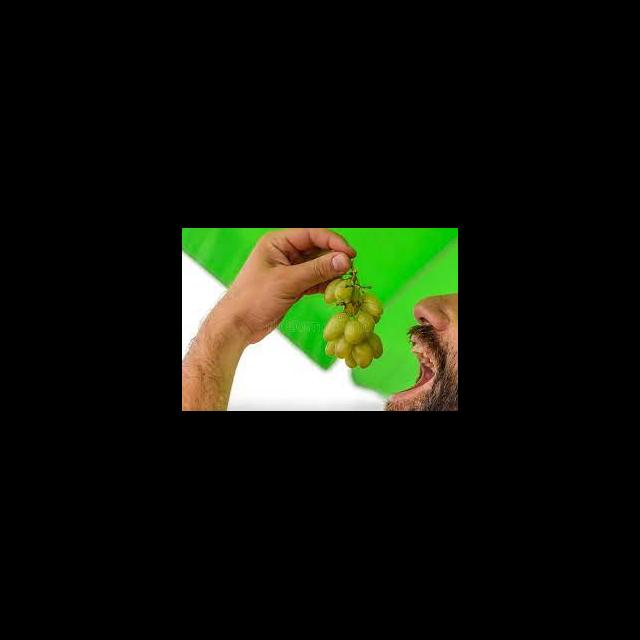grape: (322, 258, 383, 368)
